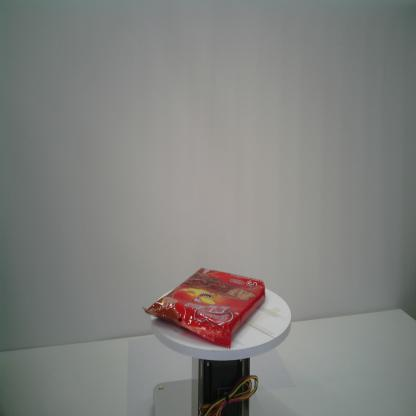Dessert: (141, 267, 266, 349)
